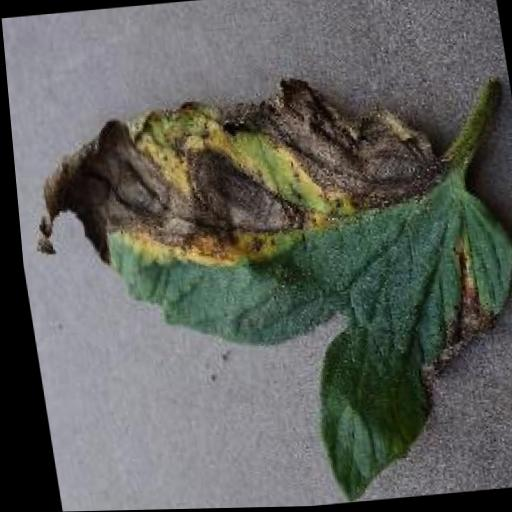Early Blight: (8, 58, 512, 512)
